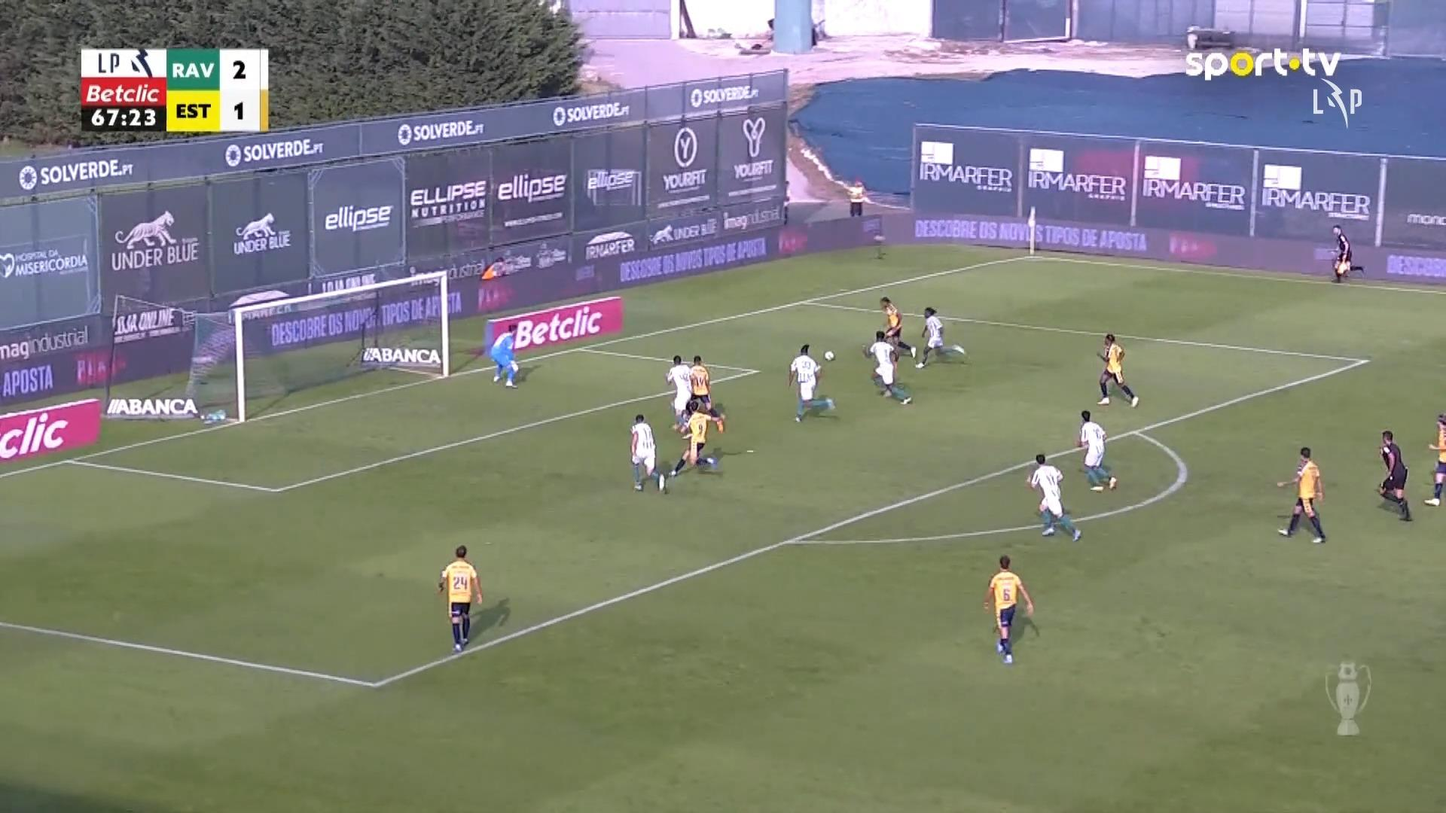ball: (823, 350, 834, 361)
goalkeeper: (489, 324, 520, 388)
player: (982, 554, 1034, 663), (437, 544, 483, 653), (1026, 452, 1081, 541), (1276, 446, 1326, 543), (669, 399, 725, 477), (786, 343, 836, 422), (862, 329, 912, 404), (1094, 332, 1139, 407), (1077, 410, 1117, 491), (914, 306, 966, 368), (629, 413, 666, 492), (687, 355, 725, 430), (879, 296, 916, 358), (664, 354, 692, 430), (1423, 413, 1444, 505), (688, 354, 712, 409)
referee: (1375, 428, 1412, 521), (1329, 224, 1352, 282)
